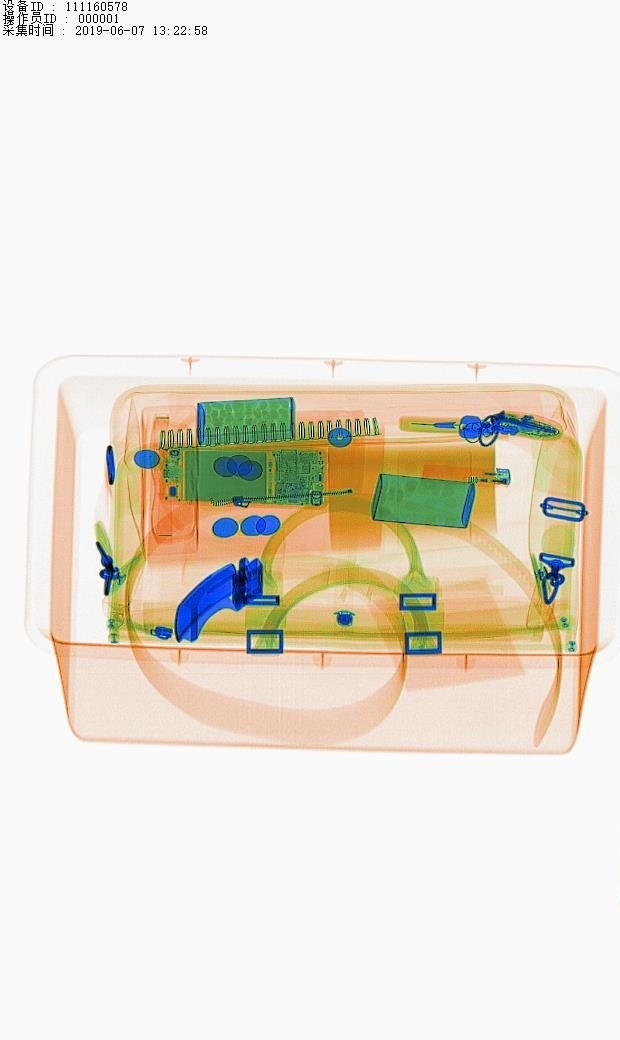NonmetallicFire: (416, 462, 555, 503)
